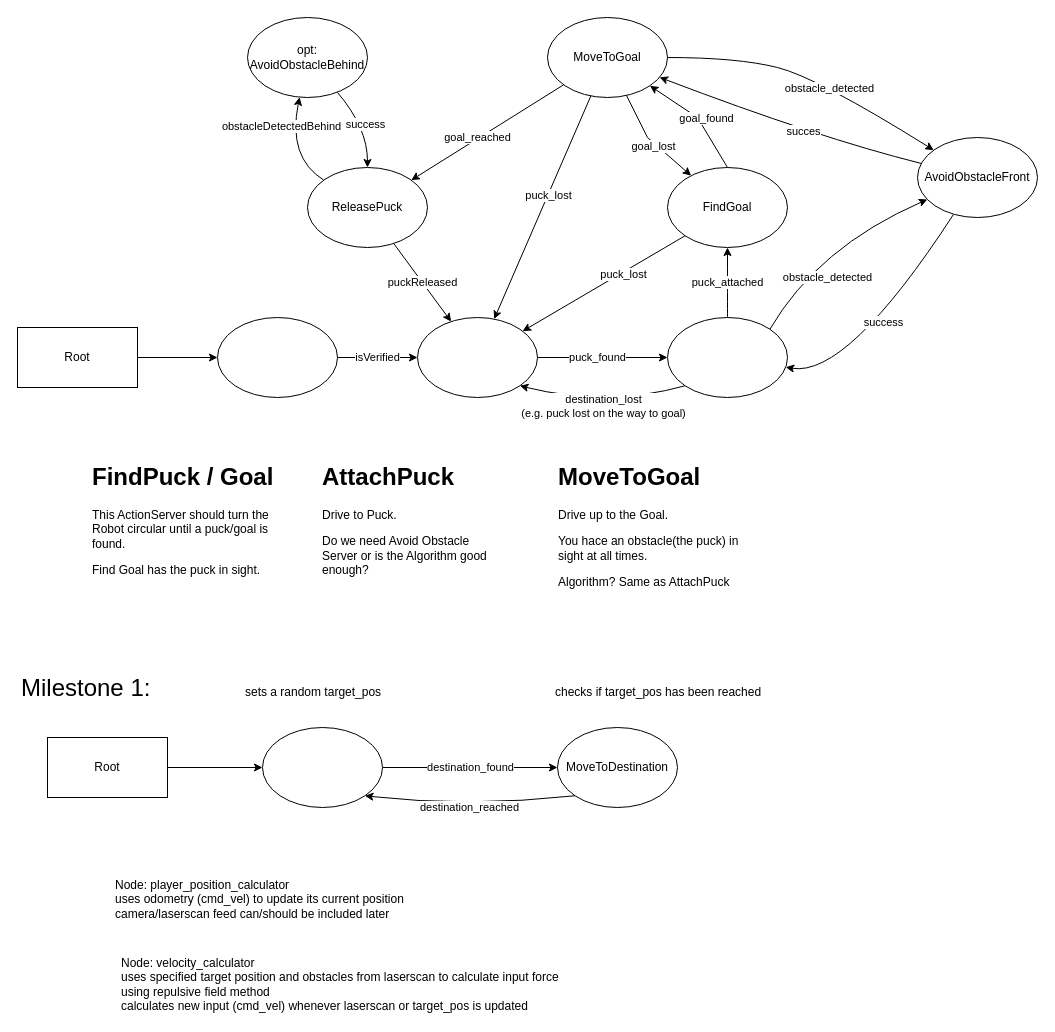
The diagram is 1055 pixels wide and 1032 high, and some of its shapes have lost their labels. The shapes that lost their labels are listed below. From the top down, each one's box as (x1, y1, x2, y2) in pixels, then its label:
(216, 316, 338, 398): GetGameSetup
(416, 316, 538, 398): FindPuck
(666, 316, 788, 398): AttachPuck
(262, 726, 382, 808): FindDestination (random in range)
